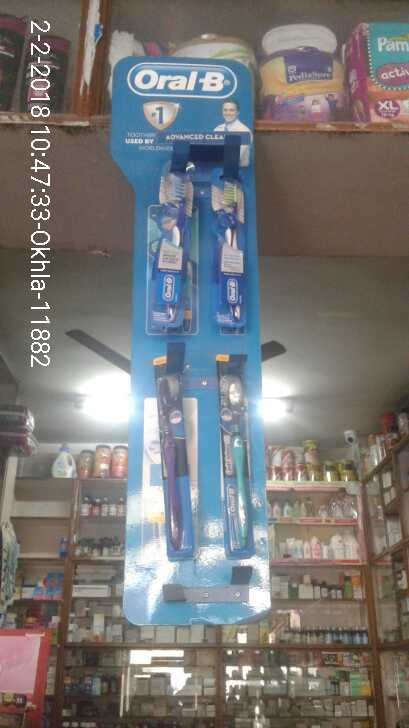oralb: (151, 168, 195, 330), (219, 381, 259, 552), (156, 376, 190, 551), (215, 176, 244, 341)
